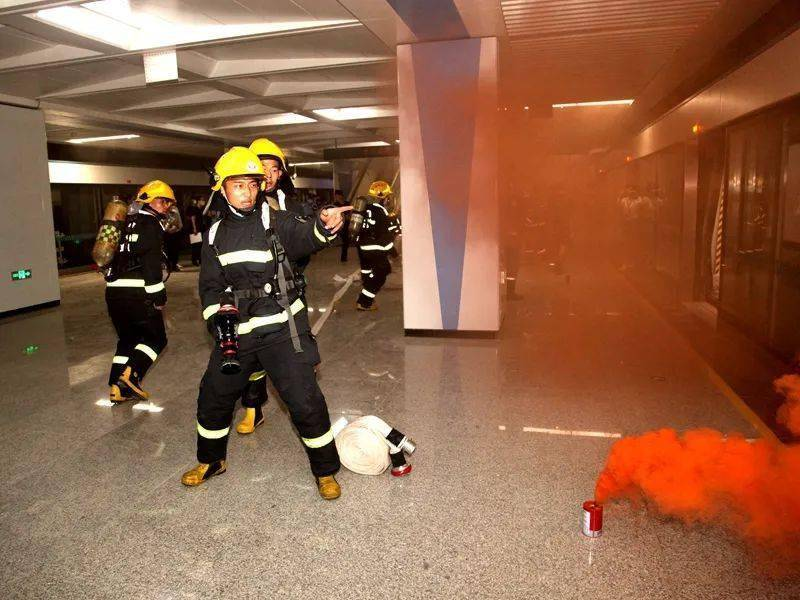smoke: (506, 138, 711, 397), (587, 422, 800, 509), (411, 67, 526, 120)
